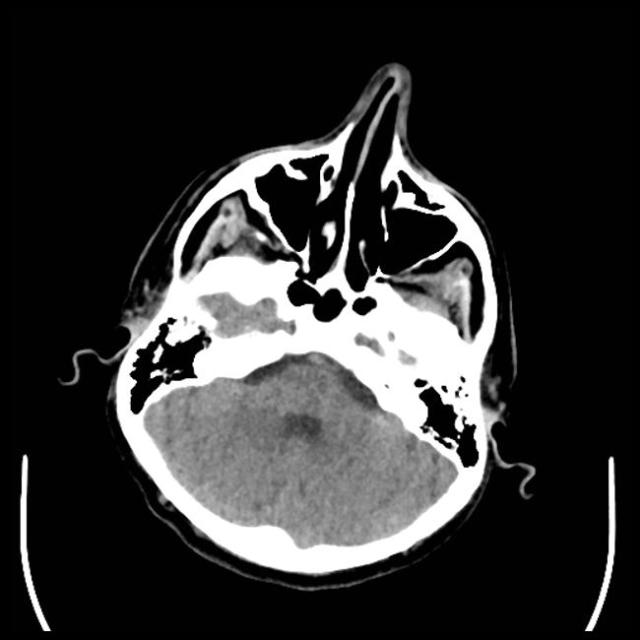lesion: (69, 60, 536, 591)
